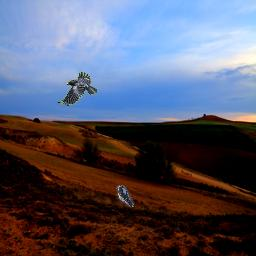Crow: (57, 71, 97, 106)
Woodpecker: (116, 185, 134, 207)
